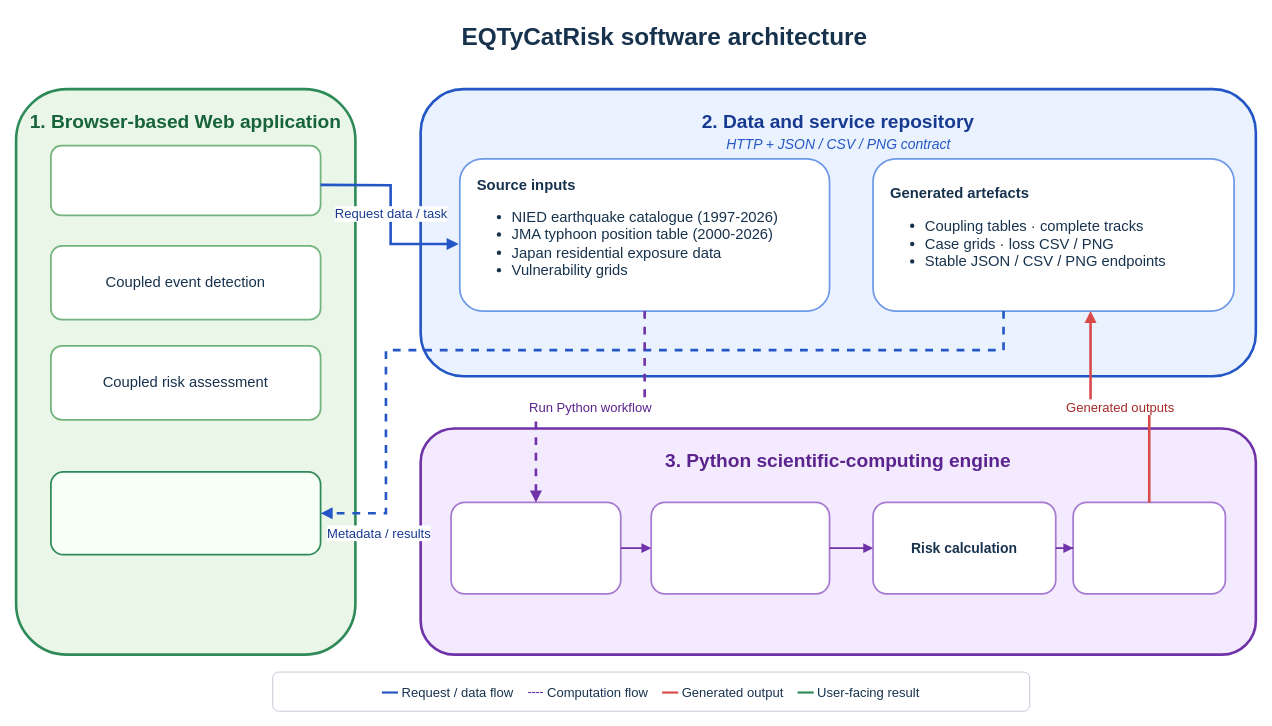
Image size: 1272x726. Some labels were removed from this diagram. The centre of each missing label's shape, as x and y in pixels:
Coupling recognition: (x=740, y=547)
Maps · heatmaps · charts Status · downloads: (x=185, y=513)
Output generation: (x=1149, y=547)
Preprocessing: (x=535, y=547)
User selects a case or starts a task: (x=185, y=180)
